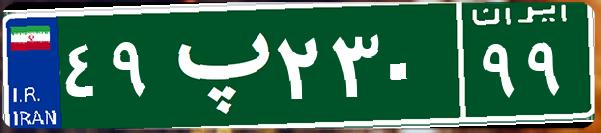0: (385, 28, 445, 110)
2: (273, 28, 330, 110)
3: (330, 28, 385, 110)
4: (57, 26, 110, 107)
9: (475, 38, 525, 113), (110, 28, 158, 105), (525, 38, 570, 115)
پ: (158, 15, 273, 115)
